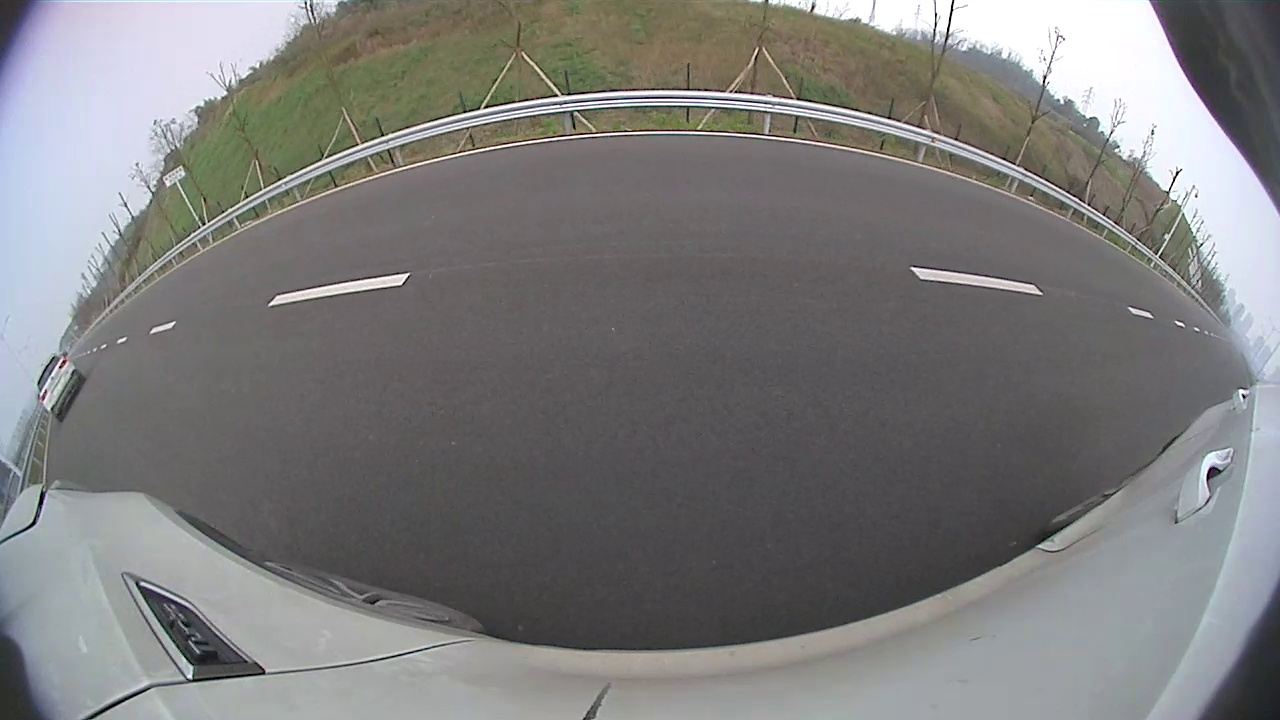car: (37, 353, 86, 422)
